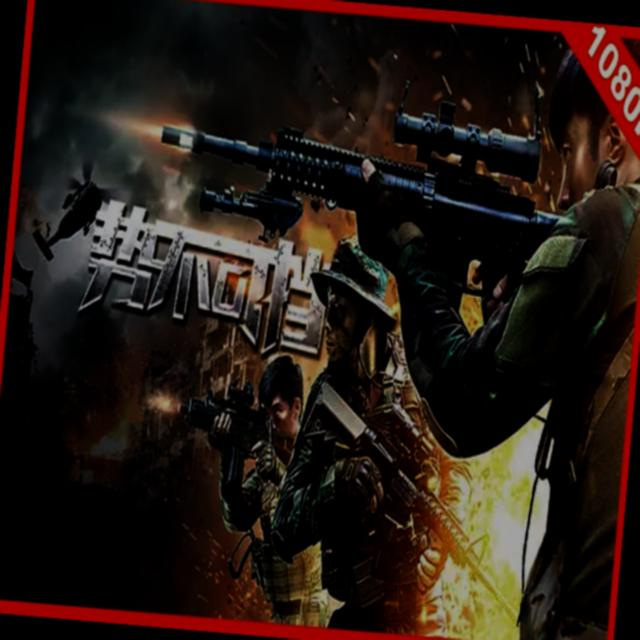rifle: (110, 45, 604, 311), (295, 364, 548, 638), (172, 359, 295, 520)
